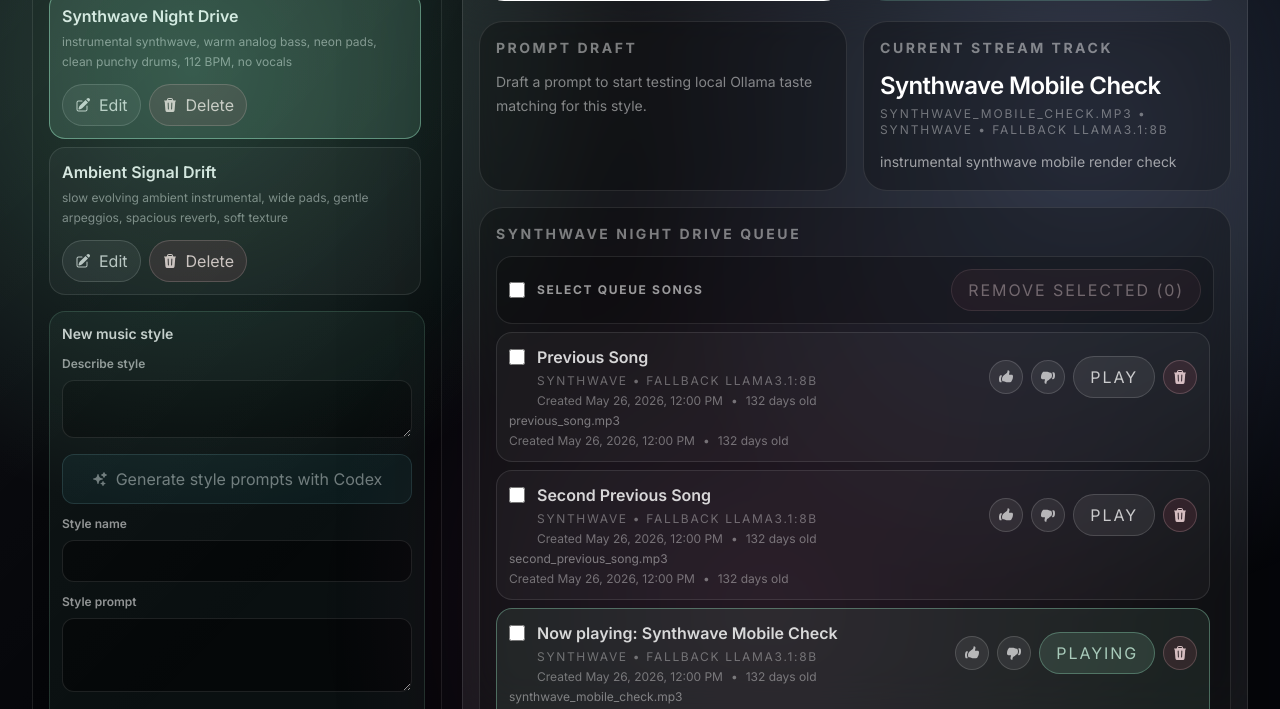
Test: radio page loading › bulk removes selected radio queue rows after confirmation
(page scrolled)
Click the checkbox named "Select Previous Song". click: [517, 357]
box: [509,349,525,365]
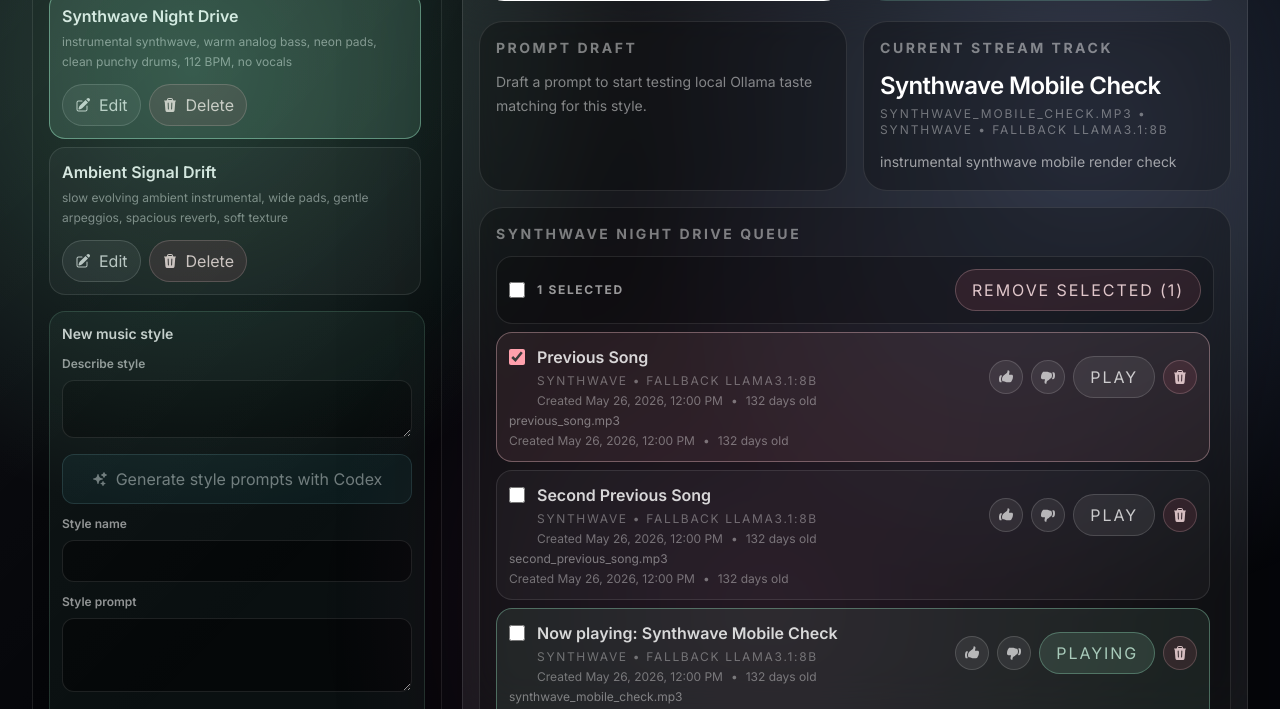
Click the checkbox named "Select Second Previous Song". click: [517, 495]
box: [509,487,525,503]
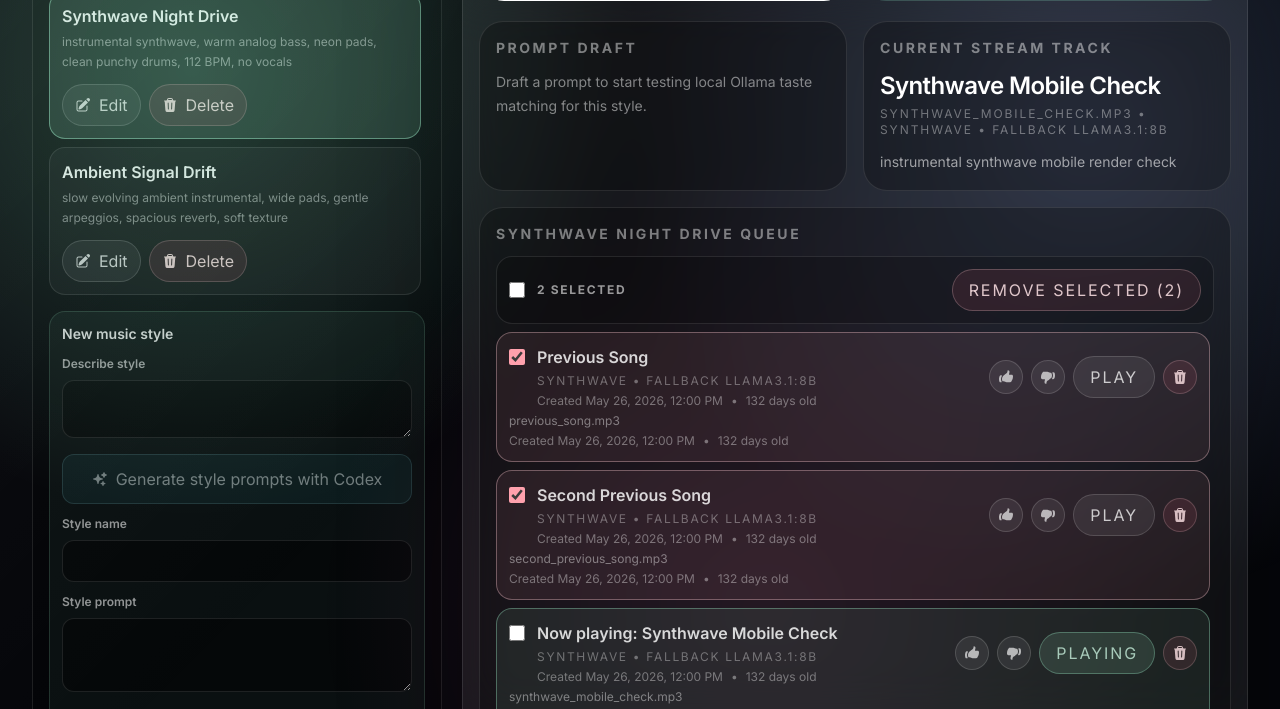
Click the button "Remove selected (2)". click: [1076, 290]
box: [952,269,1201,311]
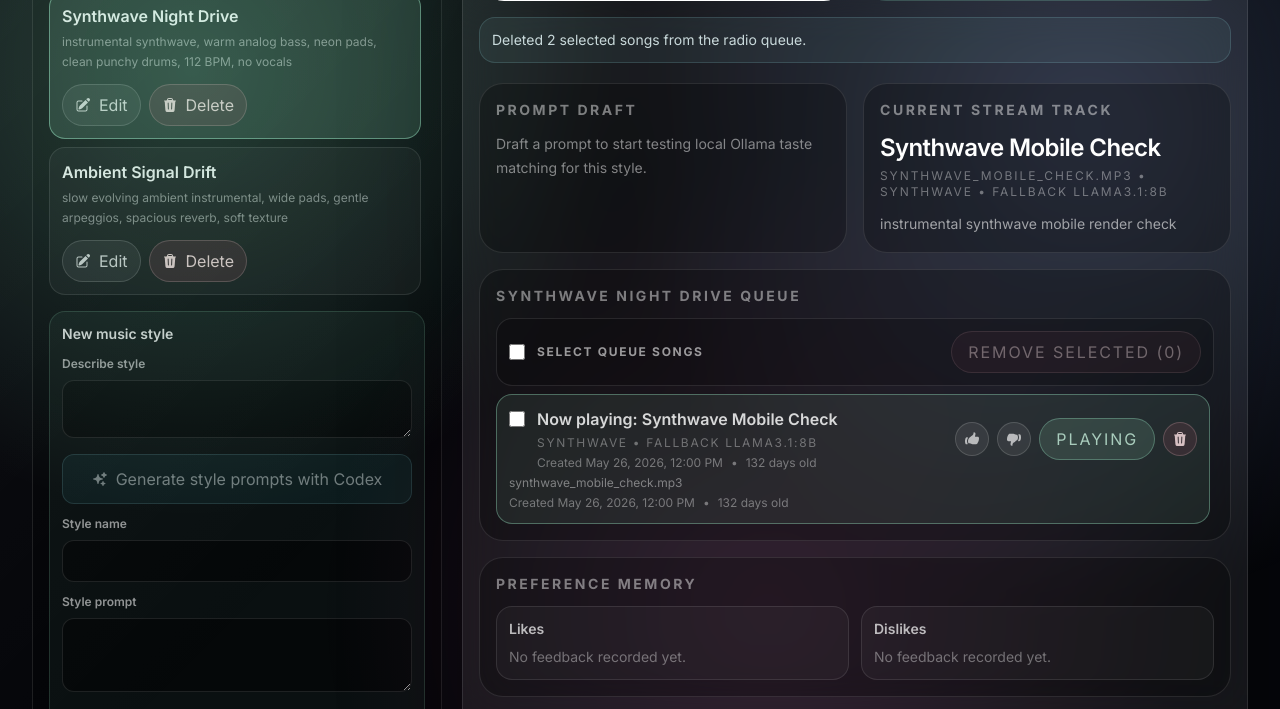
Expected: the text "Previous Song" is gone
Expected: the text "Second Previous Song" is gone
